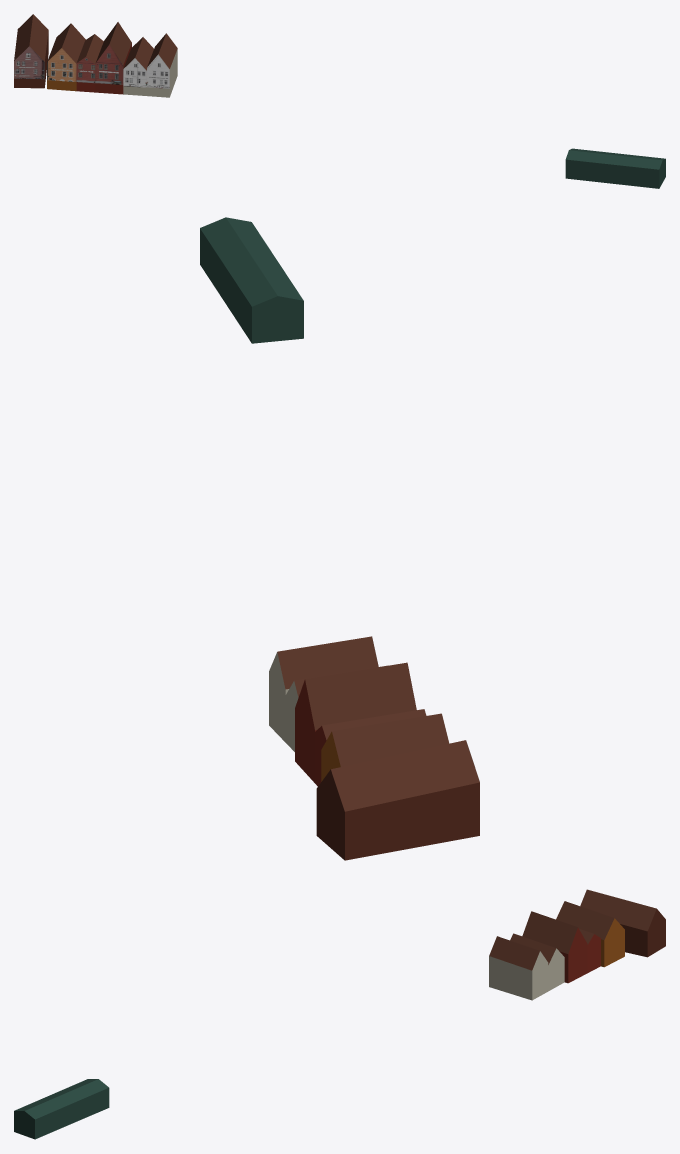
3 views of the same model, one above another, from view 1: azimuth 30°, elevation 25°; view 2: azimuth 150°, elevation 25°; view 3: azimuth 270°, elevation 25° (orthographic). The views are drawn at different scales.
Visible parts, largest first — view 1: way/393025479|body, way/488690084|body, way/331274578|body, way/331274567|body, way/292320261|body, way/331274567|facade, way/488690084|facade, way/331274578|facade, way/292320260|body, way/331274560|body, way/292320261|facade, way/292320260|facade (+1 smaller); view 2: way/488690084|body, way/393025479|body, way/331274567|body, way/331274578|body, way/292320261|body, way/331274560|body; view 3: way/393025479|body, way/292320261|body, way/488690084|body, way/331274567|body, way/331274578|body, way/292320260|body, way/331274560|body.
Boxes of the visible parts, x1,y1,x2,y2 form: way/393025479|body: [565, 148, 665, 188]; way/488690084|body: [14, 14, 48, 88]; way/331274578|body: [47, 23, 85, 91]; way/331274567|body: [95, 22, 131, 94]; way/292320261|body: [147, 33, 177, 97]; way/331274567|facade: [95, 44, 123, 84]; way/488690084|facade: [14, 46, 44, 79]; way/331274578|facade: [47, 48, 76, 81]; way/292320260|body: [123, 37, 153, 95]; way/331274560|body: [76, 34, 103, 92]; way/292320261|facade: [147, 54, 169, 88]; way/292320260|facade: [123, 58, 146, 87]; way/488690084|body: [316, 740, 479, 860]; way/393025479|body: [200, 217, 303, 343]; way/331274567|body: [295, 662, 416, 782]; way/331274578|body: [321, 713, 448, 781]; way/292320261|body: [269, 636, 378, 742]; way/331274560|body: [315, 709, 426, 786]; way/393025479|body: [14, 1079, 109, 1139]; way/292320261|body: [489, 936, 548, 1000]; way/488690084|body: [580, 889, 665, 957]; way/331274567|body: [522, 911, 587, 983]; way/331274578|body: [556, 901, 624, 967]; way/292320260|body: [510, 933, 564, 991]; way/331274560|body: [579, 928, 600, 972].
Size of the model in its own units: 144 by 17.13 by 188.
Materials: 2 (1 with a texture image).
